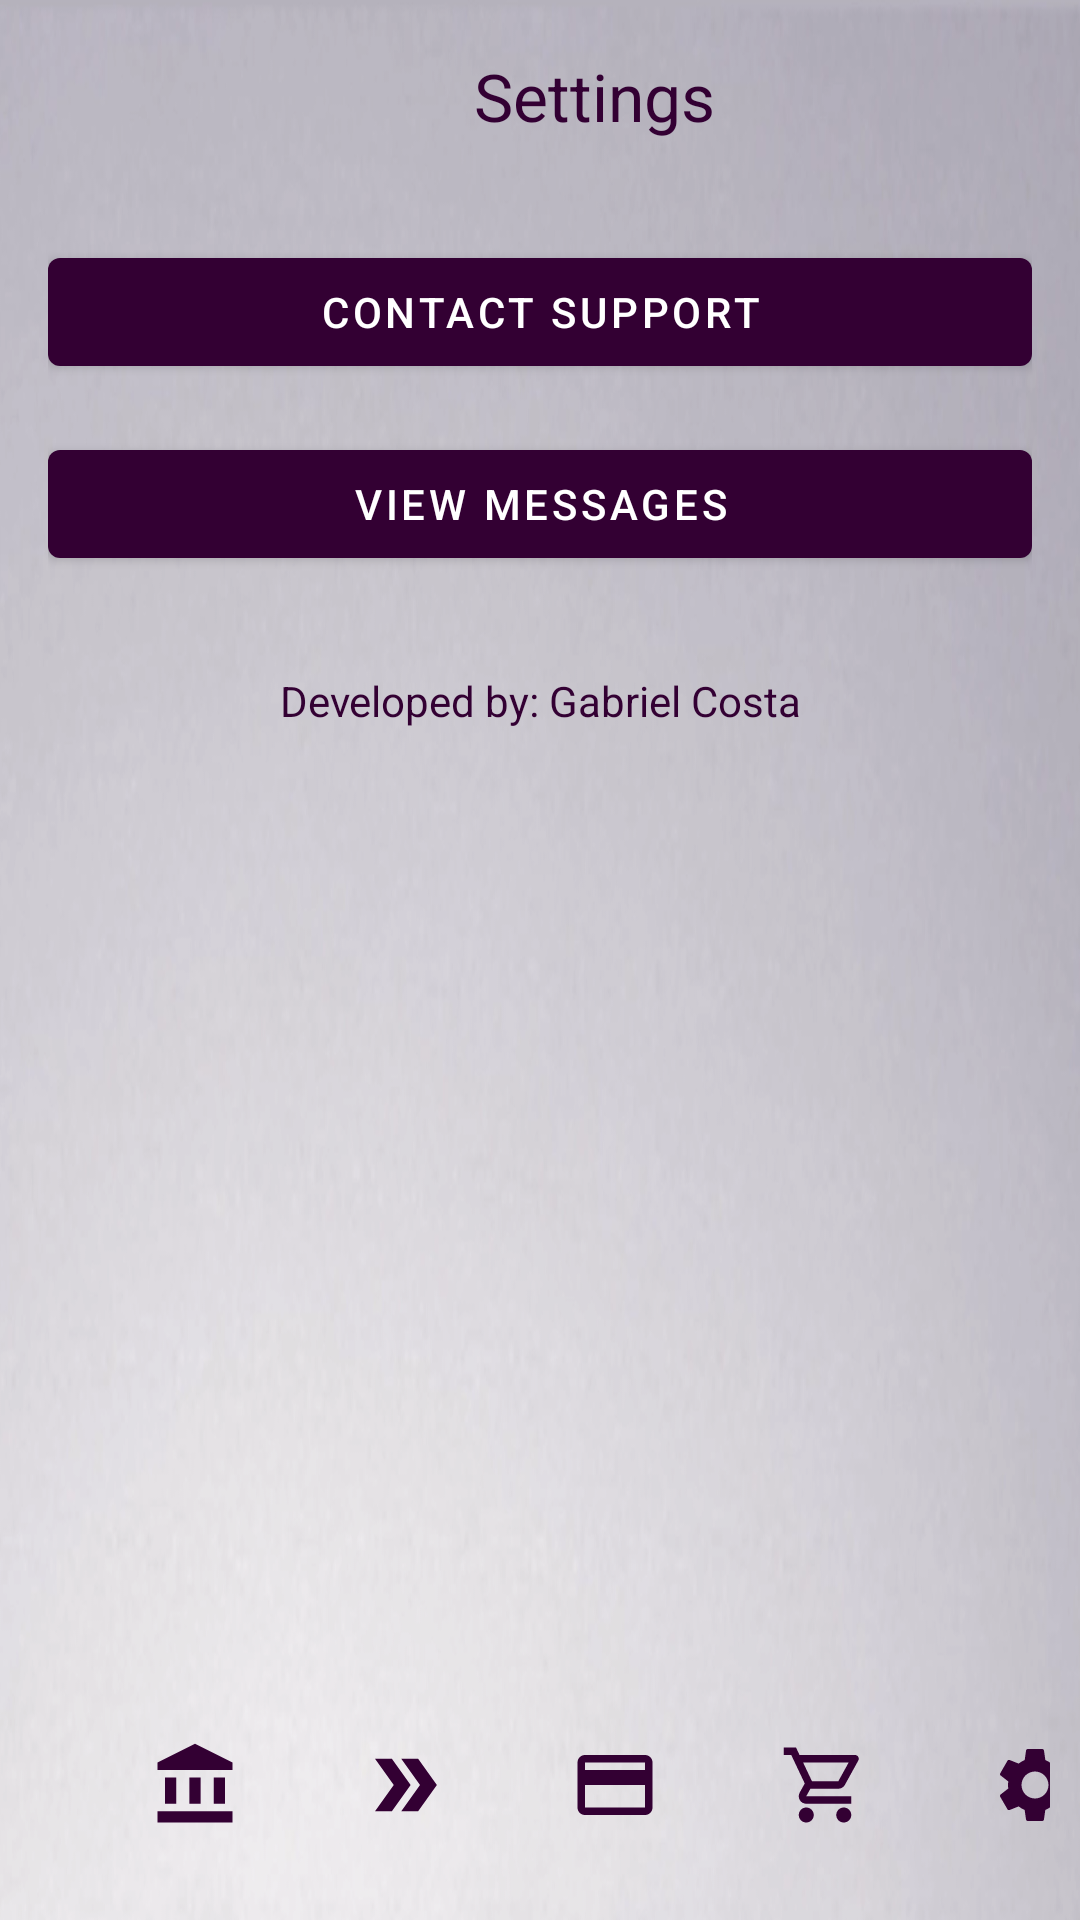

Point at icon controls on the screen. Image size 1080x1920, points as (x=x, y=y).
Balance Page Icon: (x=195, y=1783)
cards icon: (x=615, y=1785)
products icon: (x=821, y=1785)
Transfers Icon: (x=406, y=1785)
